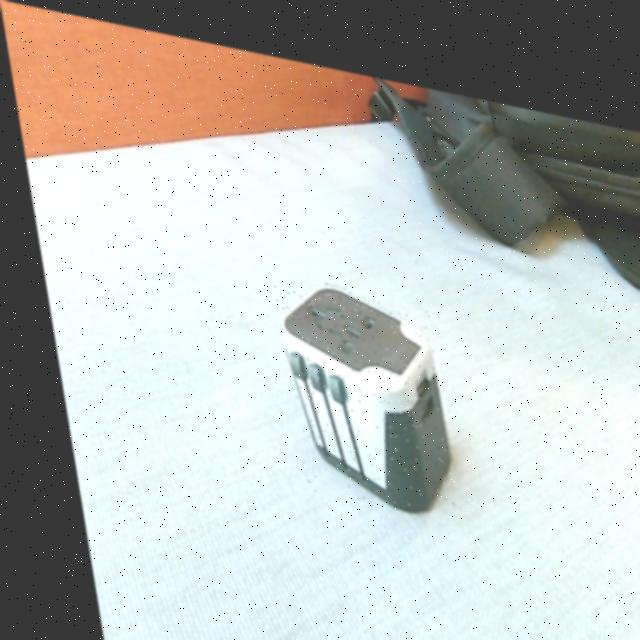adapter: (264, 262, 448, 506)
